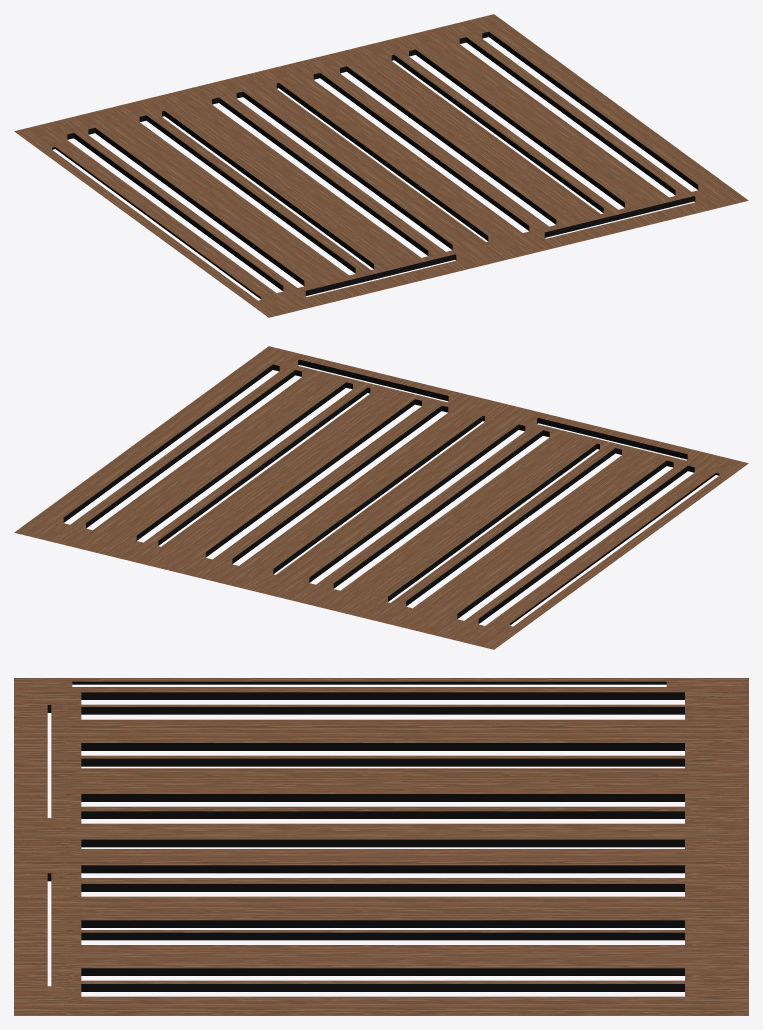
Rendered from CR02_Ceiling.FBX.
The picture shows the model from 3 angles, top to bottom: view 1: azimuth 30°, elevation 25°; view 2: azimuth 150°, elevation 25°; view 3: azimuth 270°, elevation 25°; orthographic projection. The views are drawn at different scales.
Visible parts, largest first — view 1: CR02_Ceiling; view 2: CR02_Ceiling; view 3: CR02_Ceiling.
Part boxes in pixels (x1,y1,x2,y2): CR02_Ceiling: (14, 14, 748, 317); CR02_Ceiling: (14, 346, 748, 649); CR02_Ceiling: (14, 678, 748, 1015).
Bounding box in the file's own units: 13269 × 143 × 12200.
